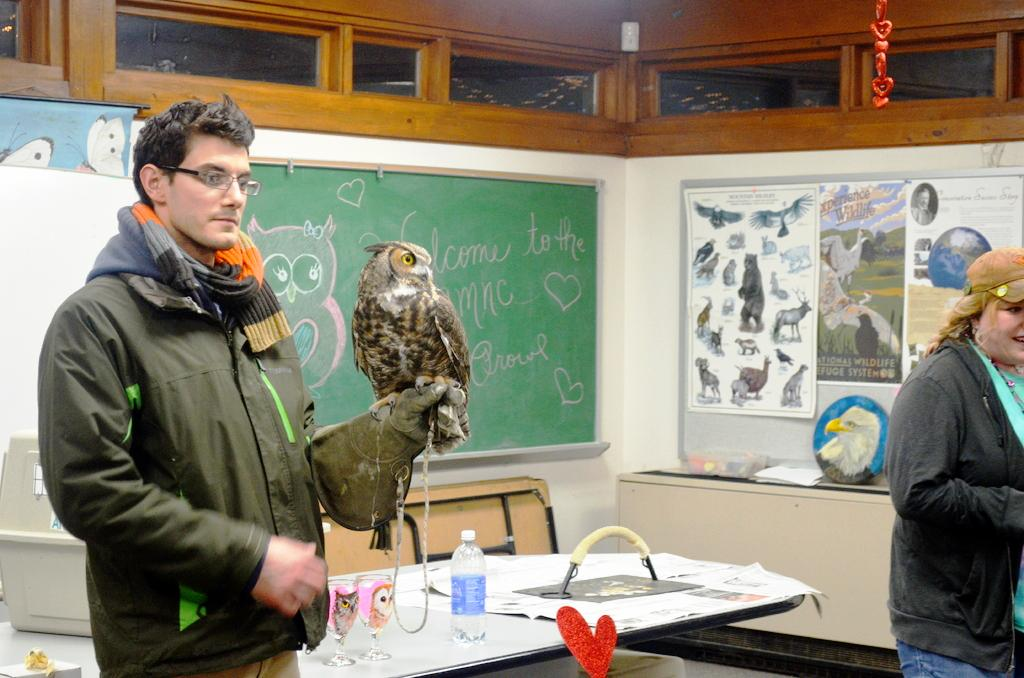Owl: (352, 238, 481, 411)
